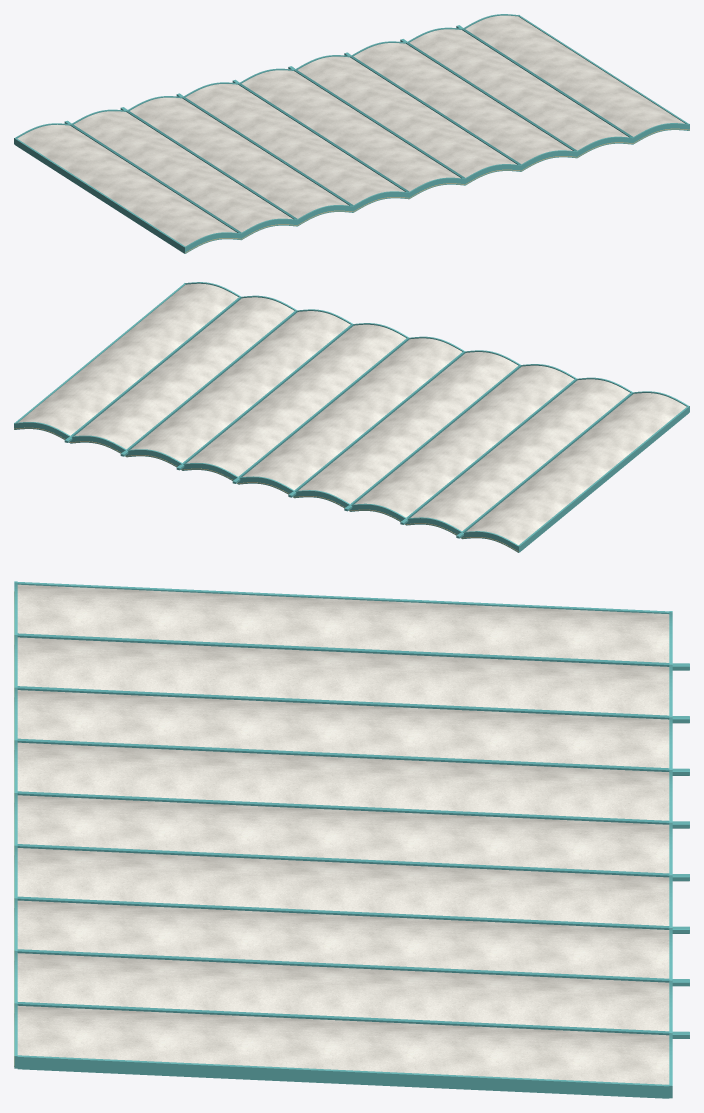
The model's file is roof.glb.
The picture shows the model from 3 angles, top to bottom: view 1: azimuth 30°, elevation 25°; view 2: azimuth 150°, elevation 25°; view 3: azimuth 270°, elevation 25°; orthographic projection. The views are drawn at different scales.
Visible parts, largest first — view 1: roof_roofw, roof_teal, roof_teal_d, roof_gold; view 2: roof_roofw, roof_teal, roof_teal_d, roof_gold; view 3: roof_roofw, roof_teal_d, roof_teal.
Part boxes in pixels (x1,y1,x2,y2): roof_roofw: [17, 15, 684, 246]; roof_teal: [14, 14, 689, 253]; roof_teal_d: [70, 29, 632, 233]; roof_gold: [185, 128, 689, 252]; roof_roofw: [18, 283, 686, 544]; roof_teal: [14, 282, 689, 552]; roof_teal_d: [70, 297, 633, 531]; roof_gold: [14, 427, 518, 551]; roof_roofw: [17, 584, 669, 1084]; roof_teal_d: [17, 633, 669, 1035]; roof_teal: [14, 581, 689, 1098].
Size of the model in its own units: 27.08 by 1.44 by 16.29.
Materials: 6 (1 with a texture image).
